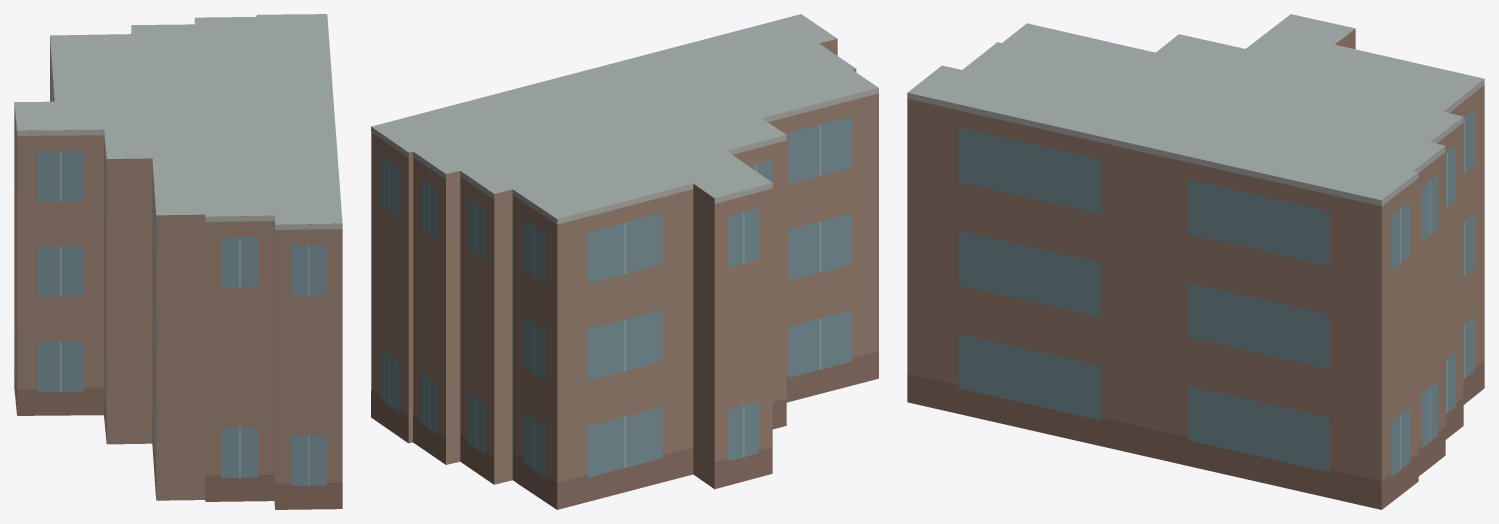
The model's file is survey-upis-32603304.glb.
The picture shows the model from 3 angles, left to right: view 1: azimuth 30°, elevation 25°; view 2: azimuth 150°, elevation 25°; view 3: azimuth 270°, elevation 25°; orthographic projection. The views are drawn at different scales.
Parts seen in each view (by area): view 1: survey-upis-32603304.tmp; view 2: survey-upis-32603304.tmp; view 3: survey-upis-32603304.tmp.
Part boxes in pixels (x1,y1,x2,y2): survey-upis-32603304.tmp: [14, 14, 342, 509]; survey-upis-32603304.tmp: [371, 14, 878, 509]; survey-upis-32603304.tmp: [907, 14, 1484, 509].
Bounding box in the file's own units: 16.41 × 12.7 × 21.47.
